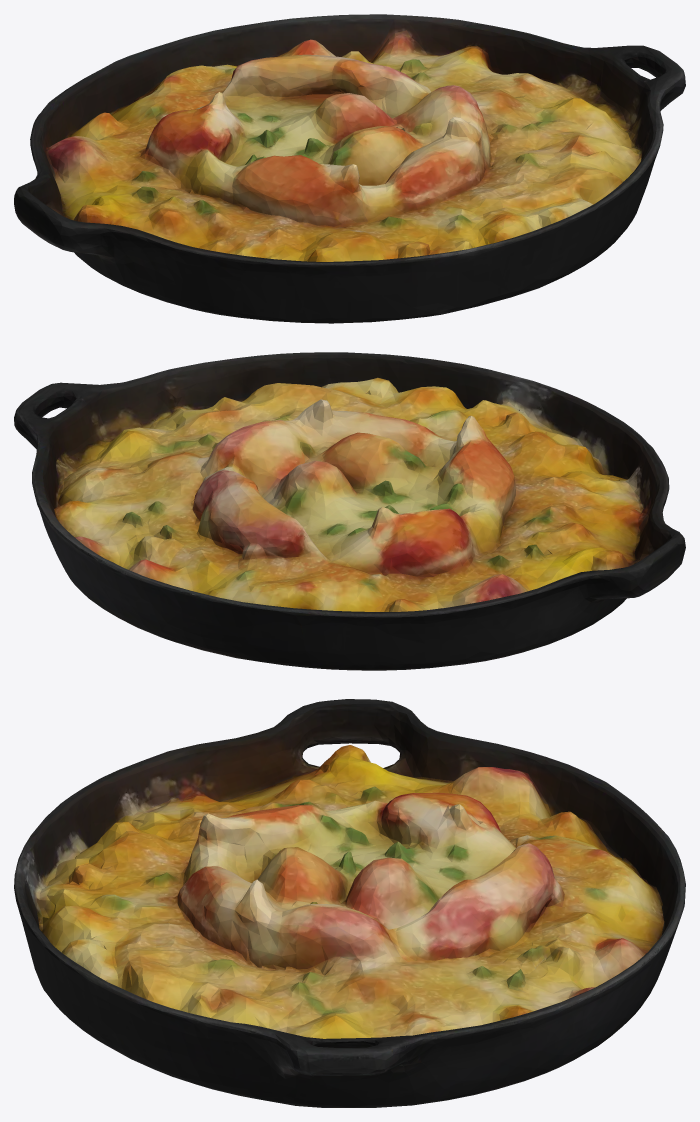
The model's file is p_lobmac.glb.
3 views of the same model, one above another, from view 1: azimuth 30°, elevation 25°; view 2: azimuth 150°, elevation 25°; view 3: azimuth 270°, elevation 25° (orthographic). The views are drawn at different scales.
Parts seen in each view (by area): view 1: geometry_0; view 2: geometry_0; view 3: geometry_0.
Boxes of the visible parts, x1=… form: geometry_0: x1=14, y1=14, x2=685, y2=323; geometry_0: x1=14, y1=352, x2=685, y2=670; geometry_0: x1=14, y1=699, x2=685, y2=1107.
Bounding box in the file's own units: 0.9995 × 0.1684 × 0.8102.
Materials: 1 (1 with a texture image).
